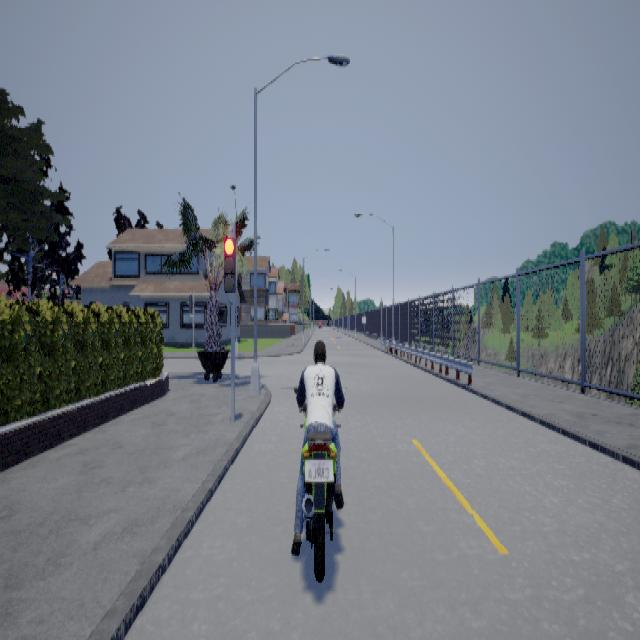motobike: (285, 330, 349, 588)
red_light: (225, 226, 237, 303)
